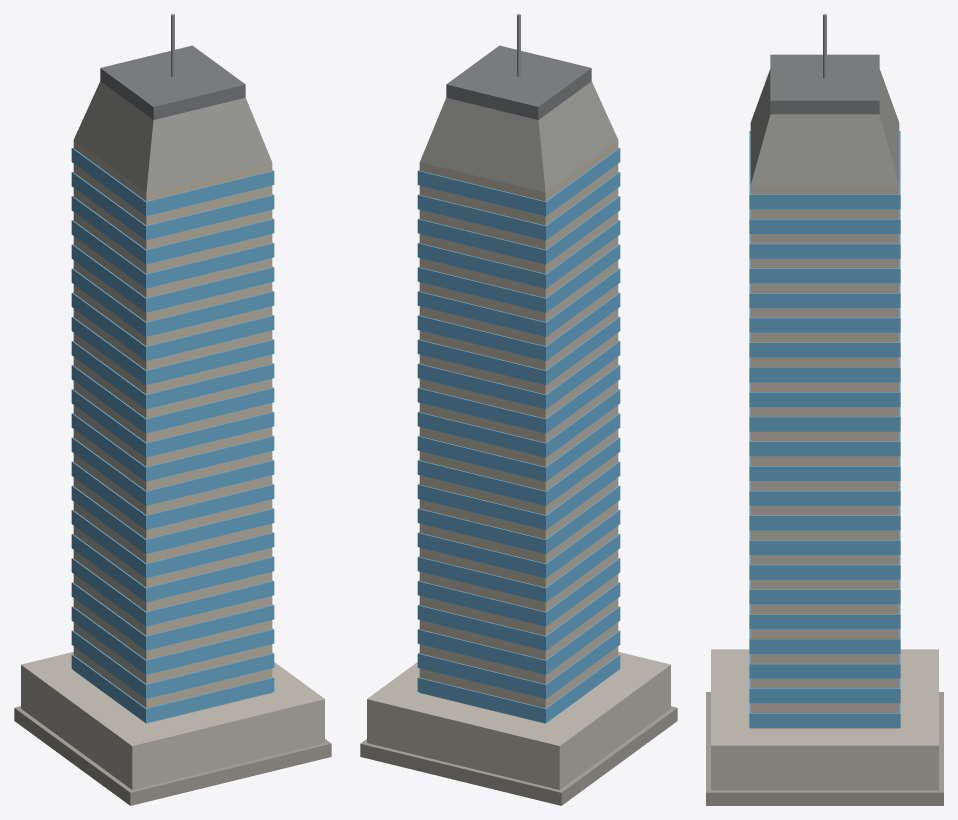
File: com_torre.glb
3 views of the same model, side by side, from view 1: azimuth 30°, elevation 25°; view 2: azimuth 150°, elevation 25°; view 3: azimuth 270°, elevation 25° (orthographic). The views are drawn at different scales.
Visible parts, largest first — view 1: com_torre; view 2: com_torre; view 3: com_torre.
Part boxes in pixels (x1=…): com_torre: x1=14, y1=14, x2=331, y2=805; com_torre: x1=360, y1=14, x2=677, y2=805; com_torre: x1=706, y1=14, x2=943, y2=805.
Size of the model in its own units: 0.48 by 1.65 by 0.48.
